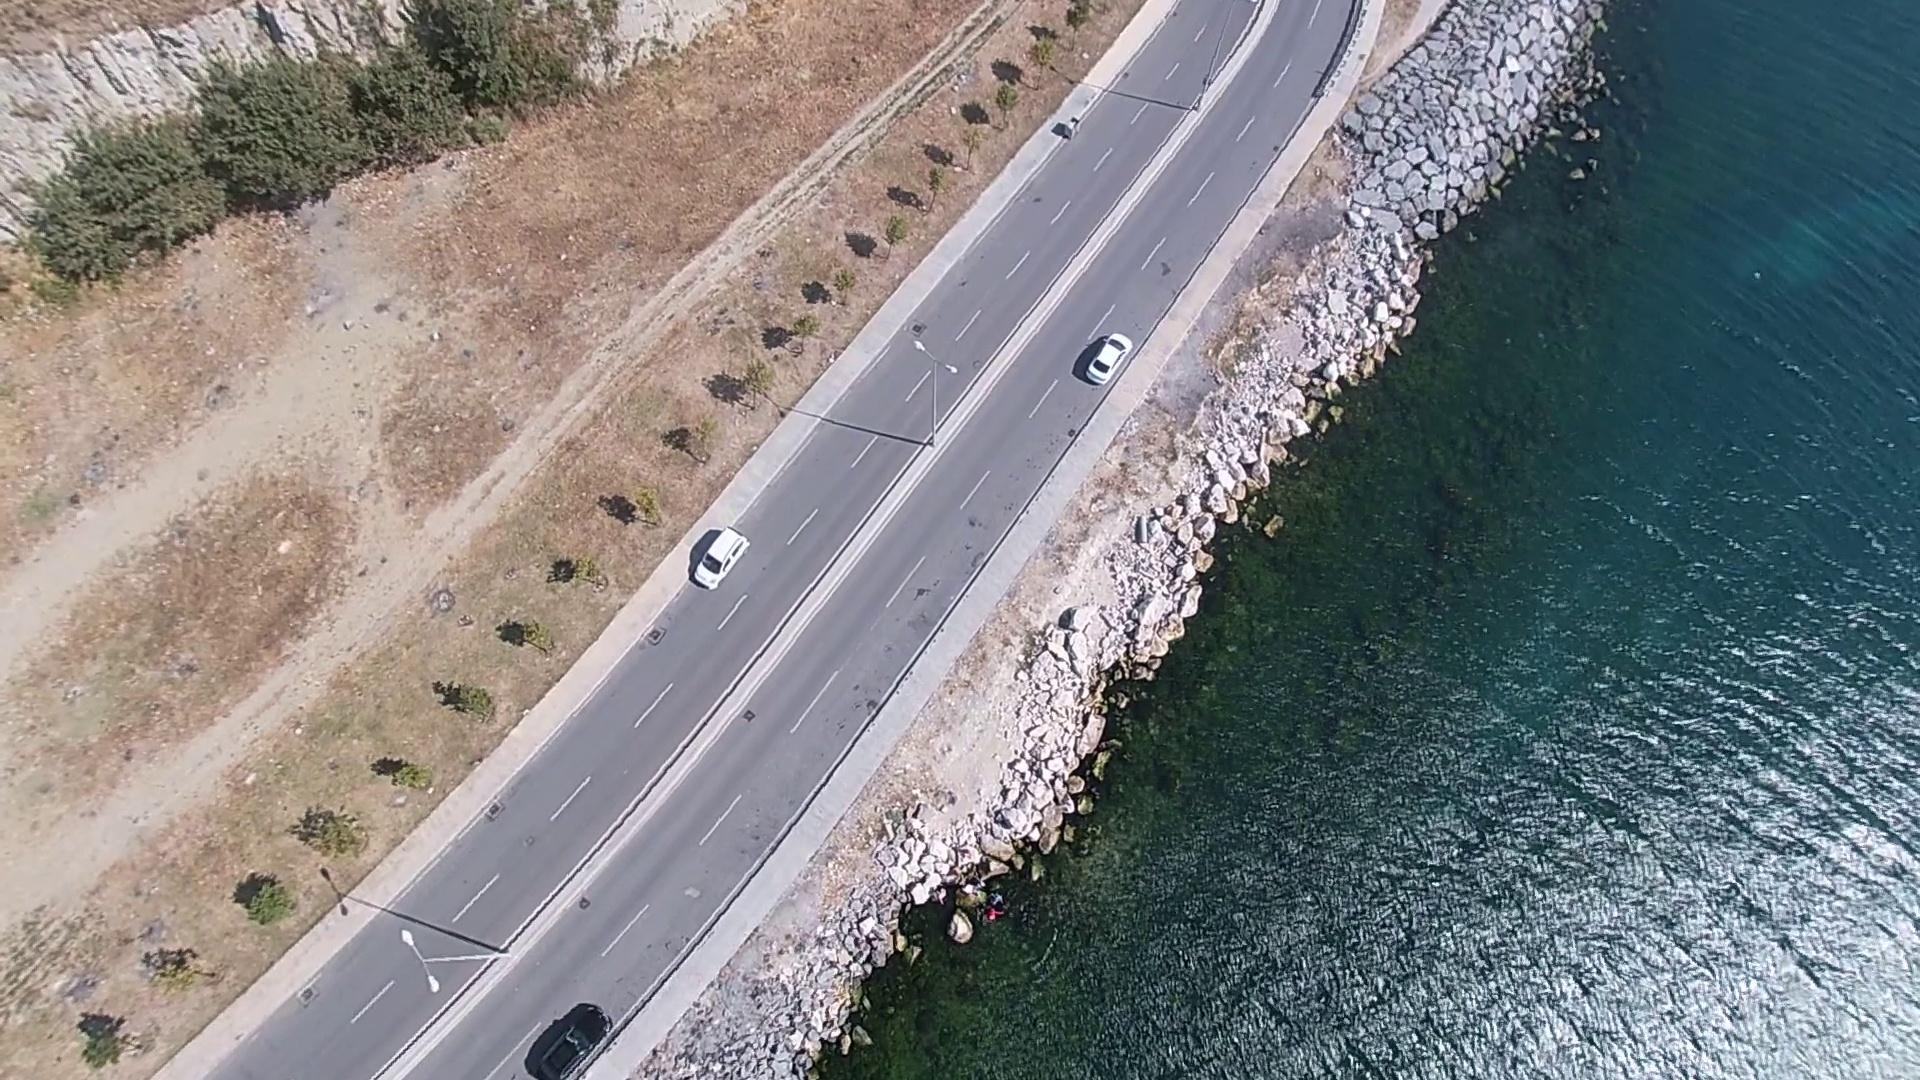araba: (529, 996, 617, 1077), (692, 526, 752, 589), (1079, 326, 1139, 384)
